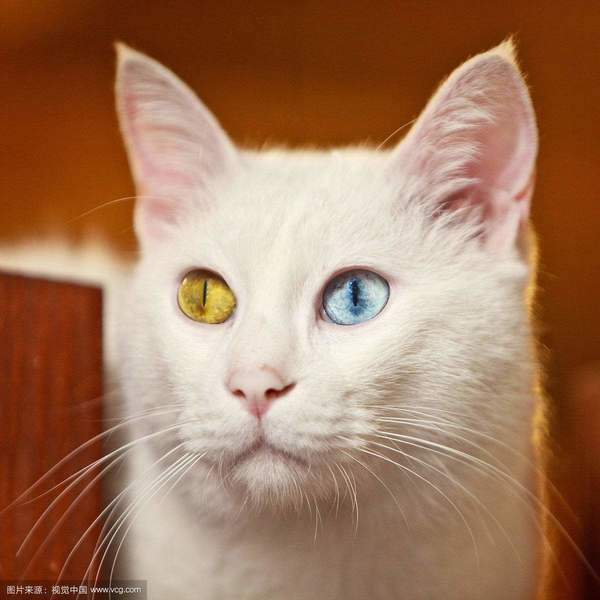cat: (87, 40, 569, 530)
